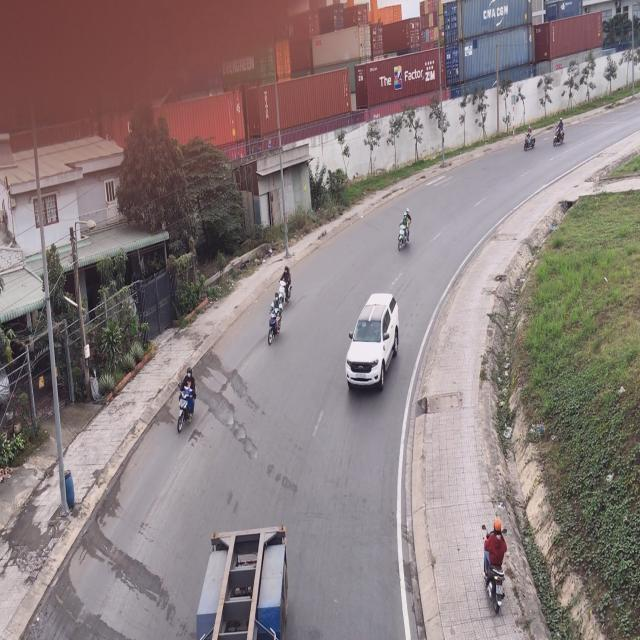car: (344, 292, 398, 392)
motorbike: (480, 518, 508, 618), (174, 365, 197, 434), (267, 291, 284, 348), (395, 209, 411, 256), (278, 265, 293, 310), (524, 120, 537, 154), (554, 112, 566, 146)
truck: (192, 524, 290, 638)
